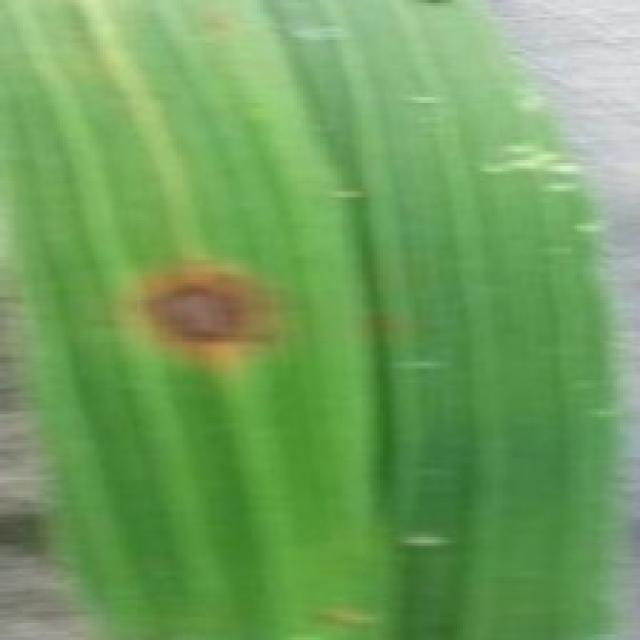Rice___Brown_Spot: (0, 0, 619, 637)
